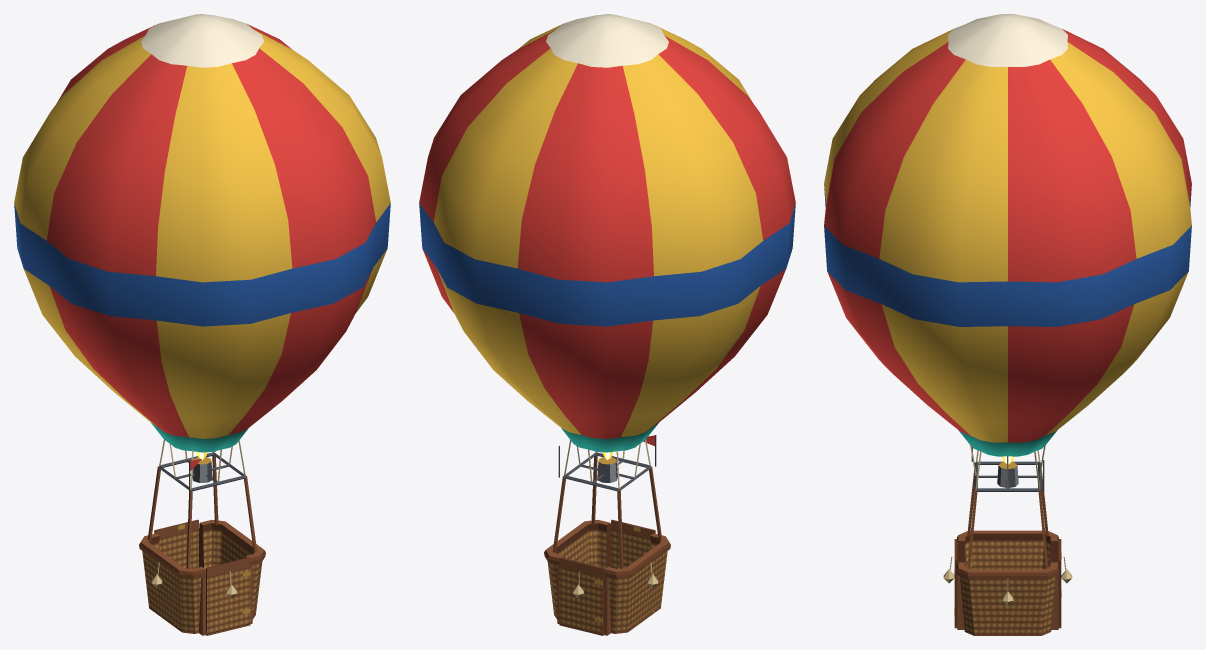
File: transport_balloon.glb
The picture shows the model from 3 angles, left to right: view 1: azimuth 30°, elevation 25°; view 2: azimuth 150°, elevation 25°; view 3: azimuth 270°, elevation 25°; orthographic projection.
Parts seen in each view (by area): view 1: balloon_envelope, balloon_basket, basket_door_leaf, basket_door_leaf_b; view 2: balloon_envelope, balloon_basket, basket_door_leaf_b, basket_door_leaf; view 3: balloon_envelope, balloon_basket.
Boxes of the visible parts, bbox=[...] form: balloon_envelope: bbox=[14, 14, 390, 452]; balloon_basket: bbox=[139, 439, 265, 635]; basket_door_leaf: bbox=[206, 557, 250, 633]; basket_door_leaf_b: bbox=[154, 519, 198, 568]; balloon_envelope: bbox=[419, 14, 795, 452]; balloon_basket: bbox=[544, 435, 670, 635]; basket_door_leaf_b: bbox=[559, 557, 603, 633]; basket_door_leaf: bbox=[611, 519, 655, 568]; balloon_envelope: bbox=[824, 14, 1191, 456]; balloon_basket: bbox=[954, 445, 1061, 635].
Size of the model in its own units: 5.8 by 10.43 by 5.8.
2 materials, 2 textured.
